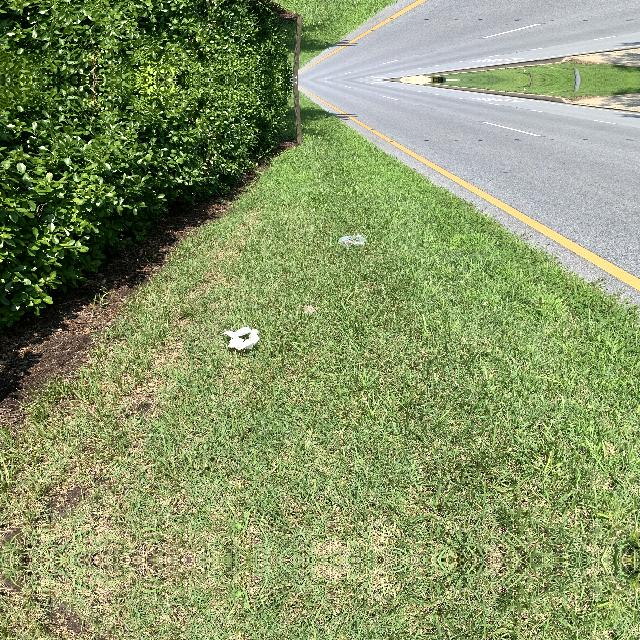Paper: (220, 321, 260, 354)
Plastic: (336, 231, 368, 247)
